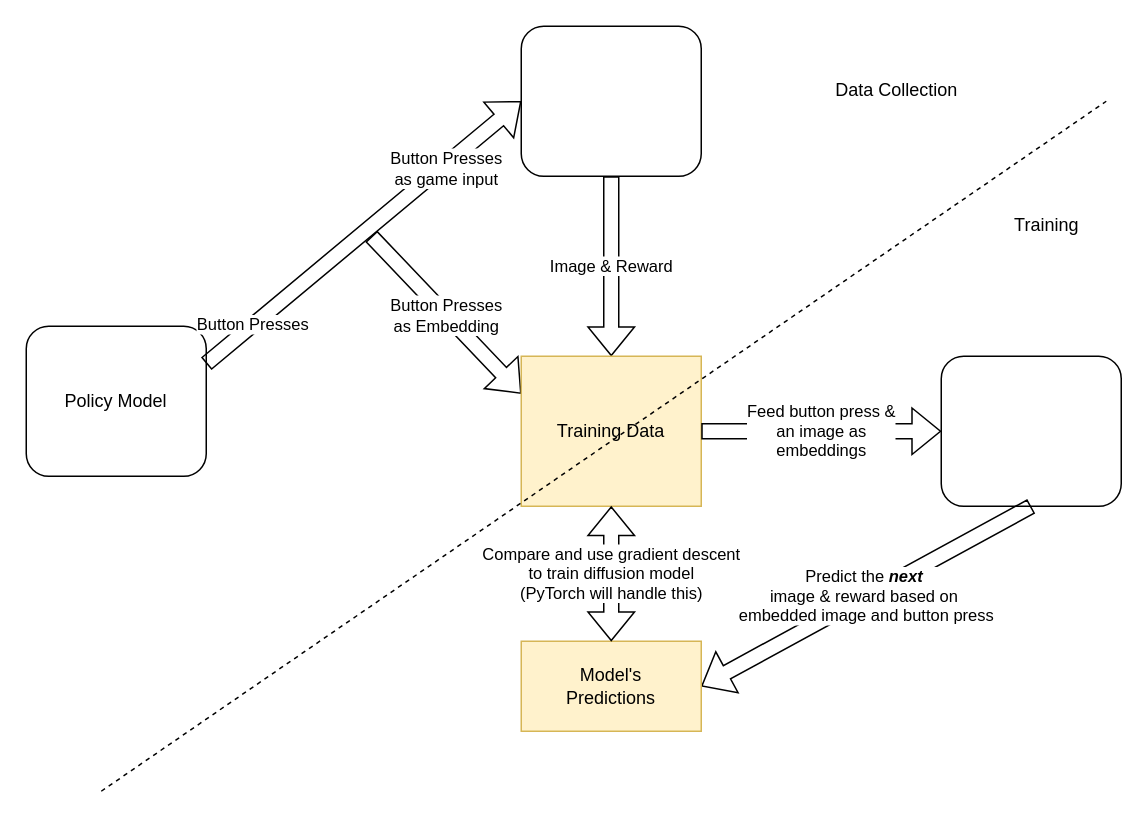
Image size: 1148x819. Some labels were removed from this diagram. The shapes that lost their labels are listed below. From the top down, each one's centre as x and y in pixels, then its label:
At (x=610, y=100): "Pong".
At (x=1030, y=430): "Diffusion Model".
